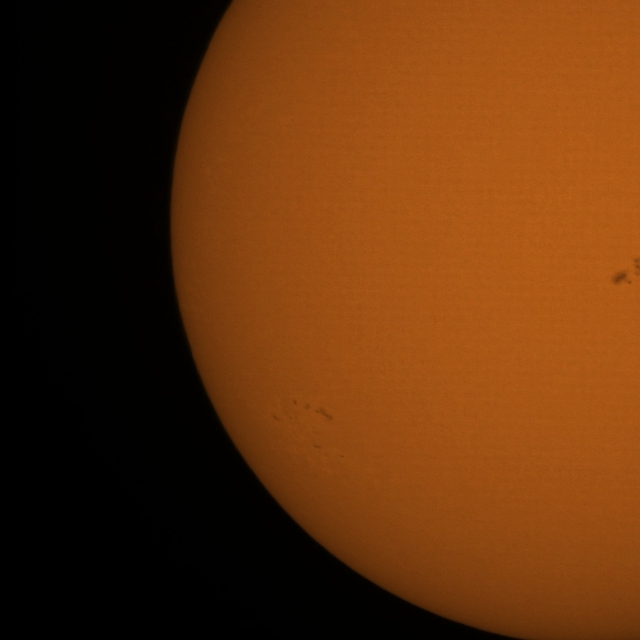sunspot: (612, 255, 640, 287), (314, 404, 334, 422), (292, 398, 312, 411), (272, 414, 281, 422), (314, 443, 322, 451), (304, 403, 311, 411), (292, 399, 298, 407)
